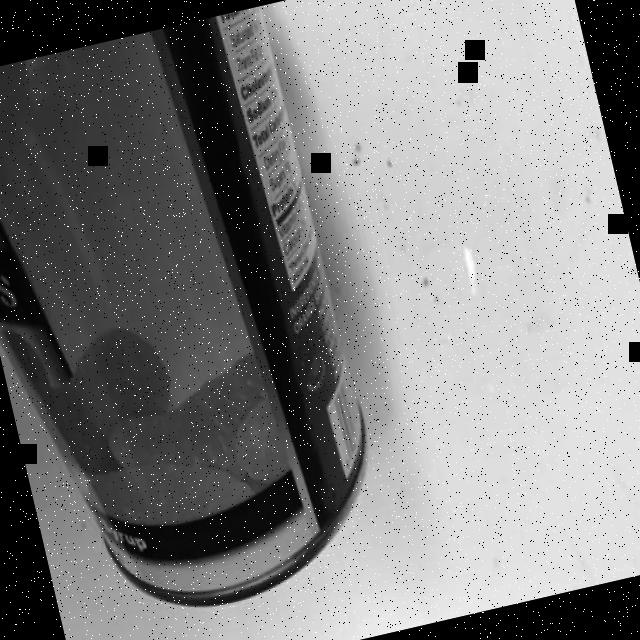can: (0, 3, 402, 640)
